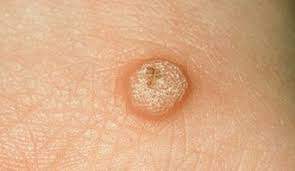Warts: (121, 53, 193, 119)
